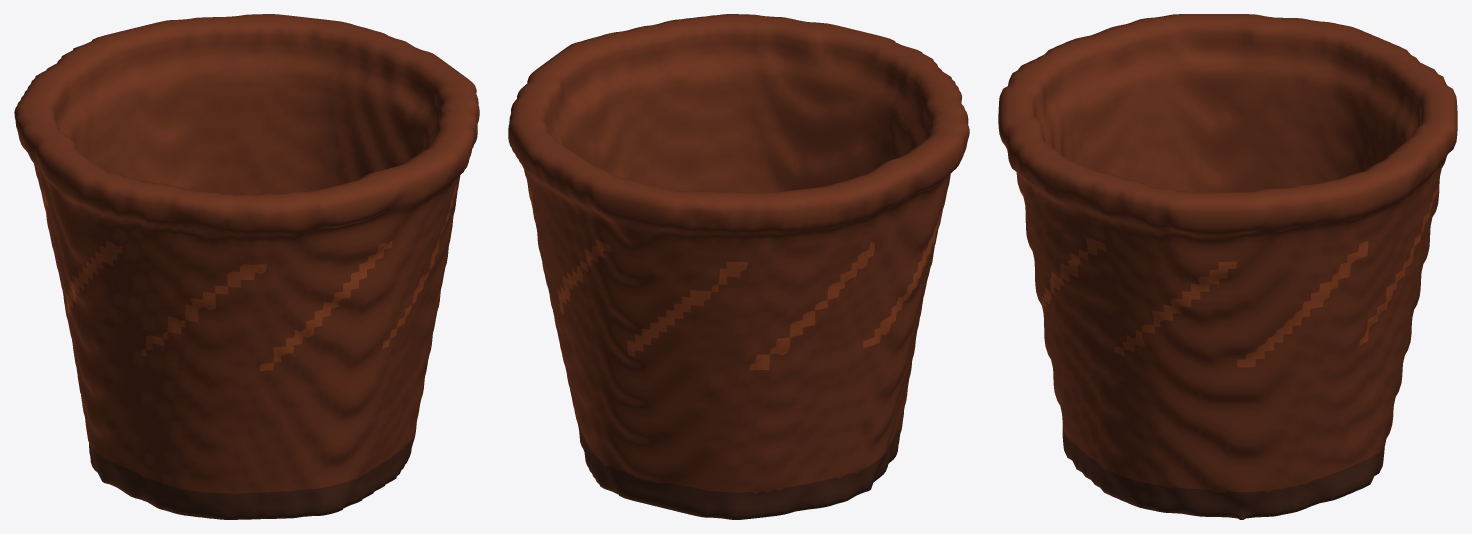
Rendered from planter.glb.
The picture shows the model from 3 angles, left to right: view 1: azimuth 30°, elevation 25°; view 2: azimuth 150°, elevation 25°; view 3: azimuth 270°, elevation 25°; orthographic projection.
Visible parts, largest first — view 1: __playground; view 2: __playground; view 3: __playground.
Part boxes in pixels (x1=…): __playground: x1=14, y1=14, x2=479, y2=519; __playground: x1=508, y1=14, x2=969, y2=519; __playground: x1=998, y1=14, x2=1457, y2=519.
Bounding box in the file's own units: 1.25 × 1.05 × 1.25.
